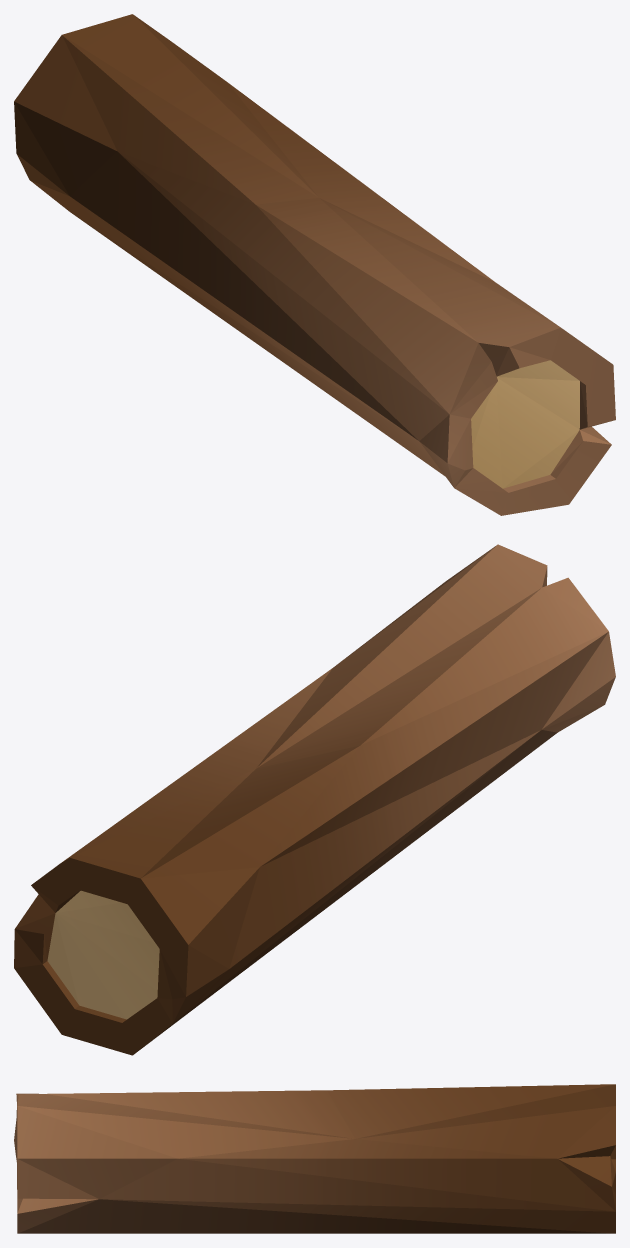
File: Log_Long.fbx
3 renders of one model, top to bottom at view 1: azimuth 30°, elevation 25°; view 2: azimuth 150°, elevation 25°; view 3: azimuth 270°, elevation 25°, orthographic. The views are drawn at different scales.
Parts seen in each view (by area): view 1: Log_Long; view 2: Log_Long; view 3: Log_Long.
Part boxes in pixels (x1,y1,x2,y2): Log_Long: (14,14,615,515); Log_Long: (14,544,615,1055); Log_Long: (14,1084,615,1233).
Bounding box in the file's own units: 0.4278 × 0.4227 × 1.81.
1 material, 1 textured.
